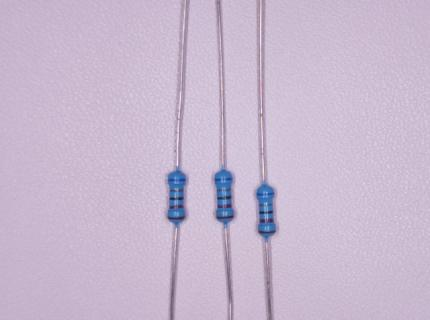Black band: (169, 196, 184, 200), (217, 196, 232, 200), (259, 211, 274, 214)
Blue band: (214, 178, 233, 182), (257, 192, 275, 196), (168, 179, 187, 182)
Brown band: (167, 216, 186, 220), (216, 215, 234, 219), (258, 230, 276, 234)
Grey band: (259, 203, 273, 207), (217, 188, 231, 192), (170, 189, 184, 192)
Red band: (259, 218, 274, 224), (217, 203, 232, 208), (169, 205, 184, 209)
